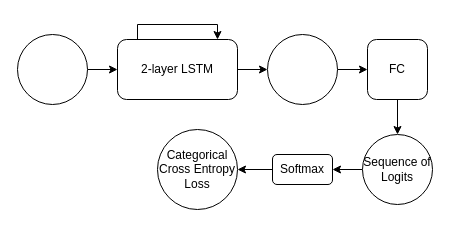
Image size: 450x227. Some labels were removed from this diagram. Here are the shapes that lost their labels. From the top down, the centre of each, then its label:
At point (52, 69): "Input sequence".
At point (302, 69): "Output sequence".
